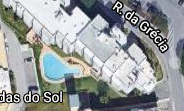pool: (43, 54, 70, 78)
